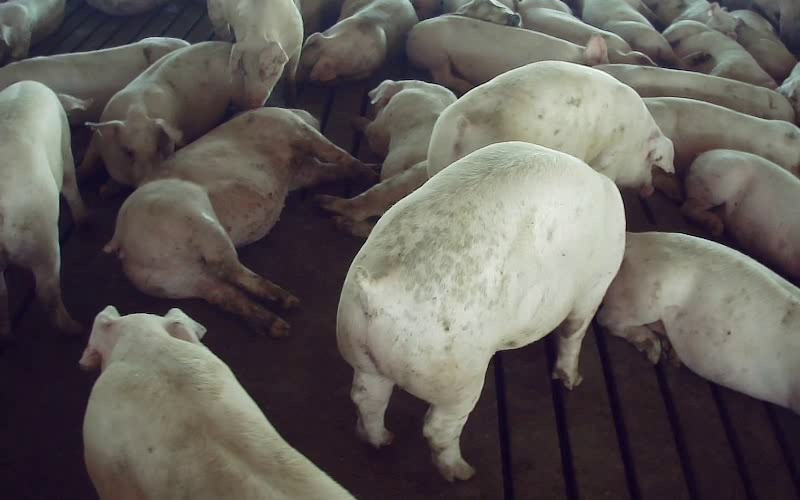pig: (337, 142, 624, 480), (106, 108, 372, 335), (80, 306, 352, 499), (599, 233, 799, 413), (427, 61, 673, 194), (82, 41, 231, 186), (319, 80, 456, 236), (0, 37, 188, 123), (406, 15, 607, 93), (682, 149, 799, 280), (643, 97, 799, 176), (595, 64, 794, 122), (208, 0, 302, 108), (517, 0, 655, 65), (582, 0, 707, 71), (663, 20, 776, 88)
